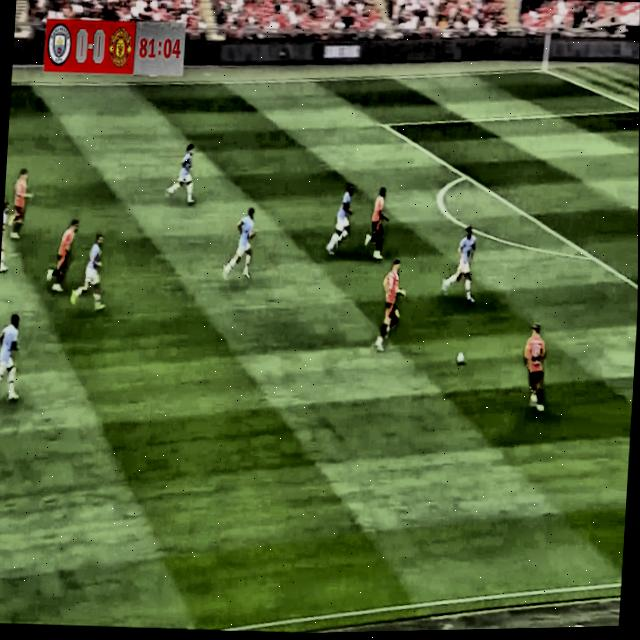ball: (455, 347, 466, 371)
players: (434, 217, 488, 310), (211, 197, 261, 293), (41, 197, 88, 299), (370, 248, 412, 356), (515, 312, 555, 418), (70, 232, 111, 325), (320, 170, 357, 259), (0, 300, 26, 415), (163, 130, 201, 207), (6, 157, 36, 250), (362, 186, 393, 269), (0, 189, 13, 291)
